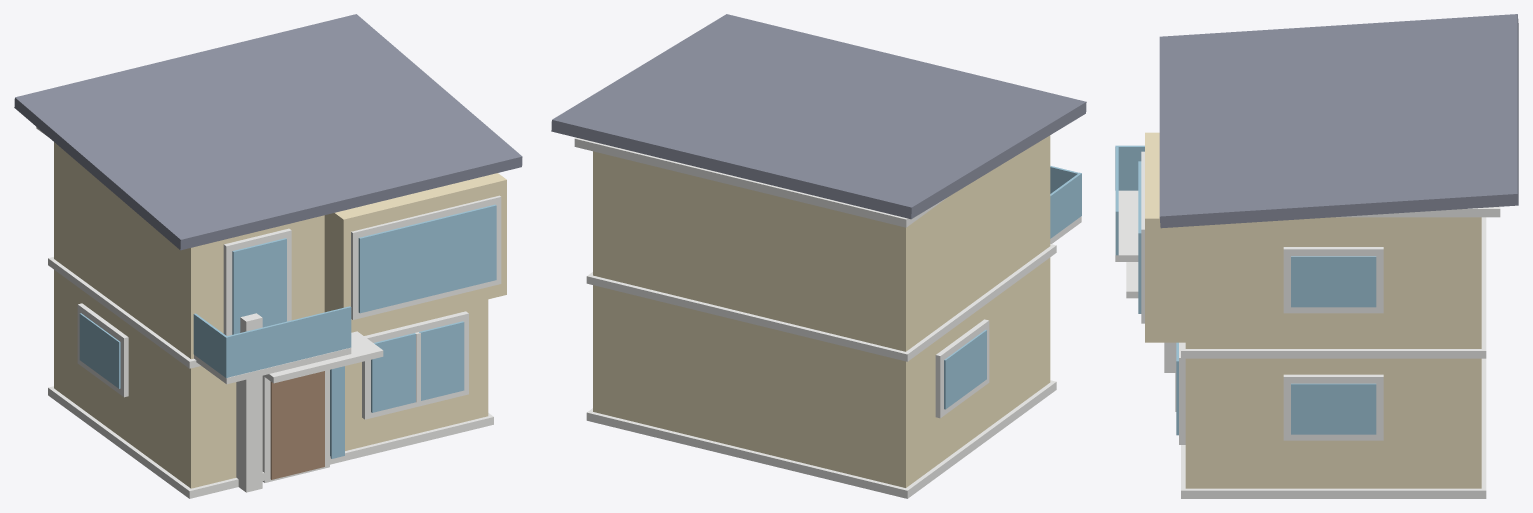
The model's file is rumah_b.fbx.
3 renders of one model, left to right at view 1: azimuth 30°, elevation 25°; view 2: azimuth 150°, elevation 25°; view 3: azimuth 270°, elevation 25°, orthographic. The views are drawn at different scales.
Parts seen in each view (by area): view 1: ShellRoof, ShellWall, ShellGlass, ShellTrim, ShellDoor; view 2: ShellWall, ShellRoof, ShellTrim, ShellGlass; view 3: ShellWall, ShellRoof, ShellTrim, ShellGlass.
Boxes of the visible parts, x1=… form: ShellRoof: x1=14, y1=14, x2=522, y2=250; ShellWall: x1=54, y1=142, x2=506, y2=488; ShellGlass: x1=79, y1=204, x2=496, y2=458; ShellTrim: x1=36, y1=127, x2=501, y2=498; ShellDoor: x1=270, y1=371, x2=324, y2=479; ShellWall: x1=593, y1=135, x2=1050, y2=487; ShellRoof: x1=551, y1=14, x2=1086, y2=219; ShellTrim: x1=574, y1=137, x2=1081, y2=498; ShellGlass: x1=944, y1=166, x2=1081, y2=409; ShellWall: x1=1145, y1=132, x2=1481, y2=488; ShellRoof: x1=1159, y1=14, x2=1518, y2=228; ShellTrim: x1=1115, y1=151, x2=1500, y2=498; ShellGlass: x1=1115, y1=145, x2=1376, y2=435.
Bounding box in the file's own units: 23 × 19.58 × 21.8.
